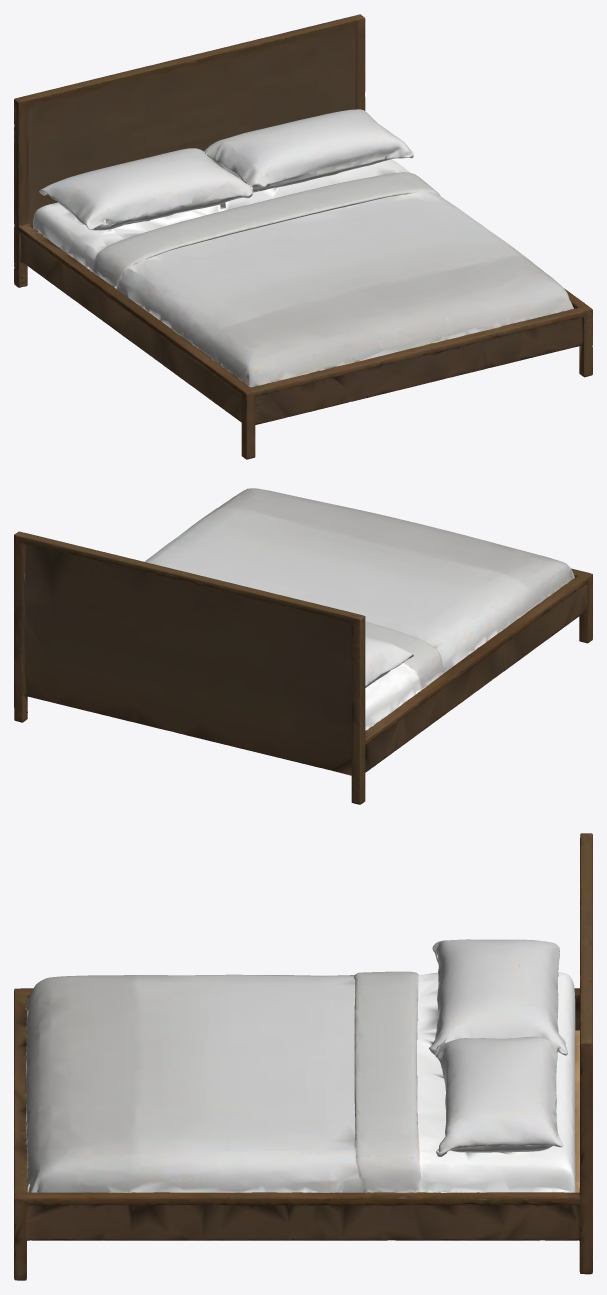
File: fm_bed_darkwood.glb
The picture shows the model from 3 angles, top to bottom: view 1: azimuth 30°, elevation 25°; view 2: azimuth 150°, elevation 25°; view 3: azimuth 270°, elevation 25°; orthographic projection. The views are drawn at different scales.
Visible parts, largest first — view 1: geometry_0; view 2: geometry_0; view 3: geometry_0.
Boxes of the visible parts, <box> form: geometry_0: <box>14,14,592,459</box>; geometry_0: <box>14,488,592,804</box>; geometry_0: <box>14,833,592,1280</box>.
Size of the model in its own units: 0.8621 by 0.4541 by 1.
1 material, 1 textured.
